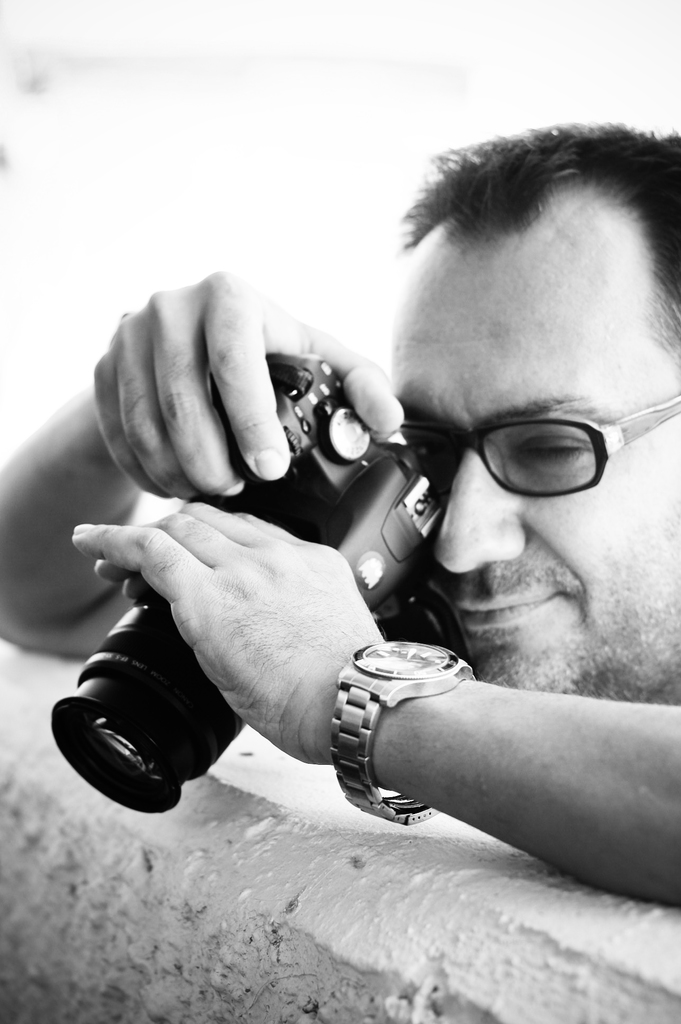watch: (329, 637, 481, 831)
